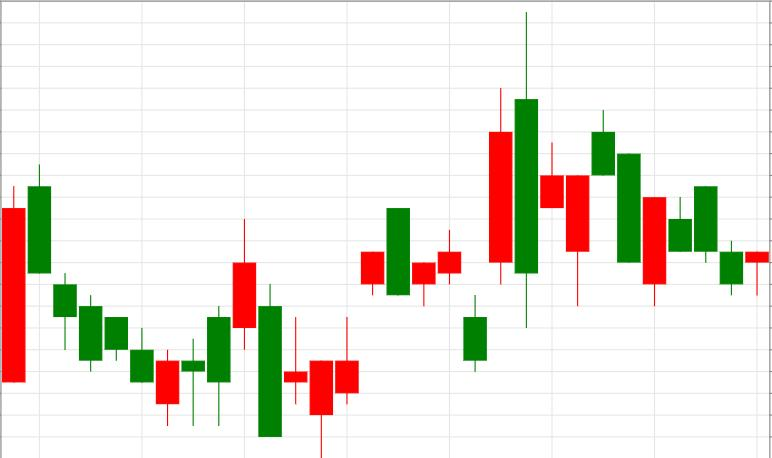bearish_engulfing_fall: (284, 209, 409, 458)
